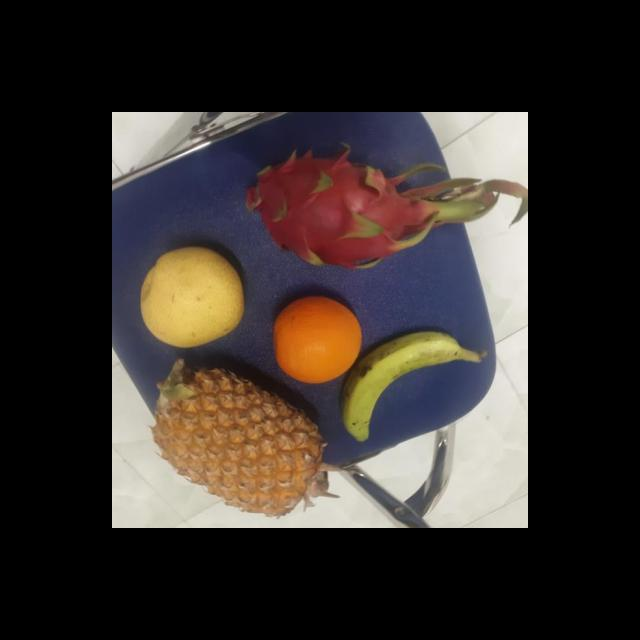banana: (332, 328, 470, 439)
guava: (136, 245, 244, 346), (269, 295, 363, 383)
pineapple: (150, 355, 320, 511)
pitaya: (232, 148, 432, 272)
